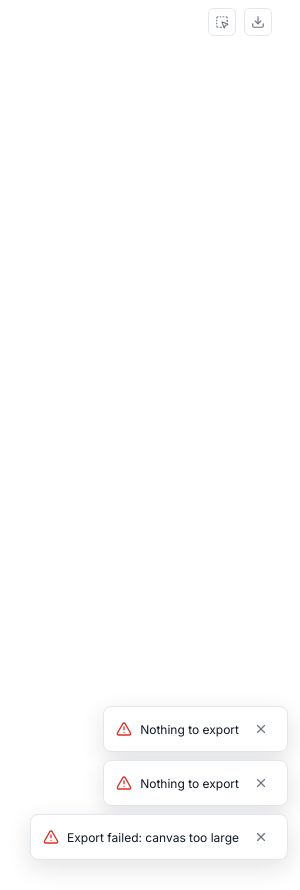
it: export menu › an asynchronous export whose download throws toasts the error
This screenshot has width=300, height=890.
Click the button named "Export".
click(258, 22)  # box [244,8,272,36]
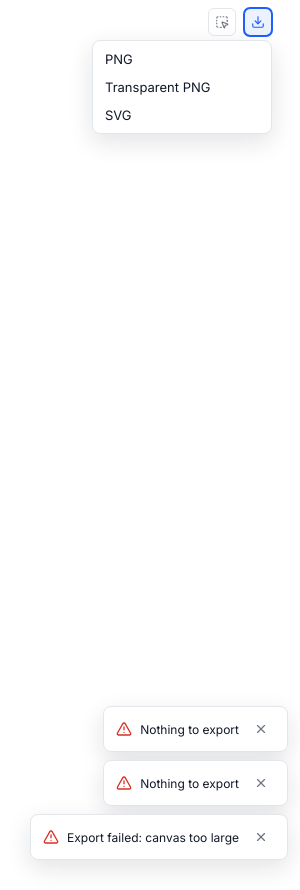
Click the menu item "PNG".
click(182, 59)  # box [97,45,267,73]
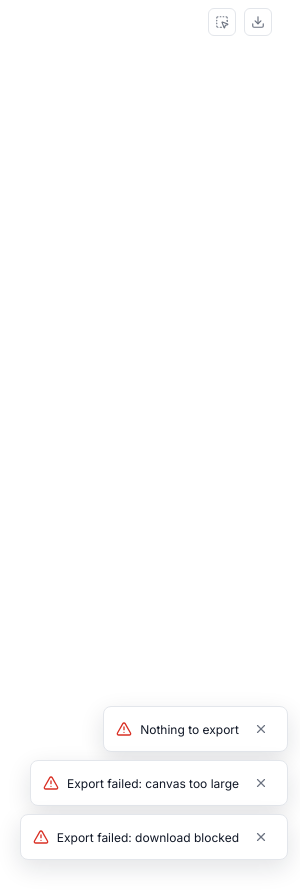
Check: the text "Export failed: download blocked" is shown, box [57,830,239,844]
